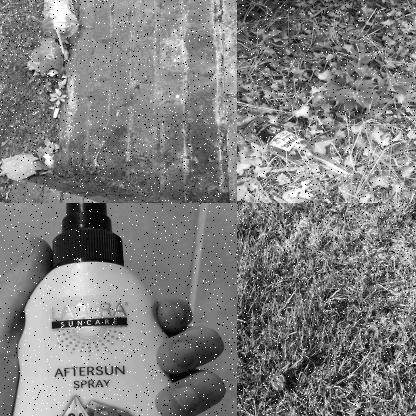glass: (244, 118, 360, 186)
plastic: (8, 203, 203, 415), (36, 0, 89, 40), (31, 43, 66, 78), (270, 370, 286, 391)
